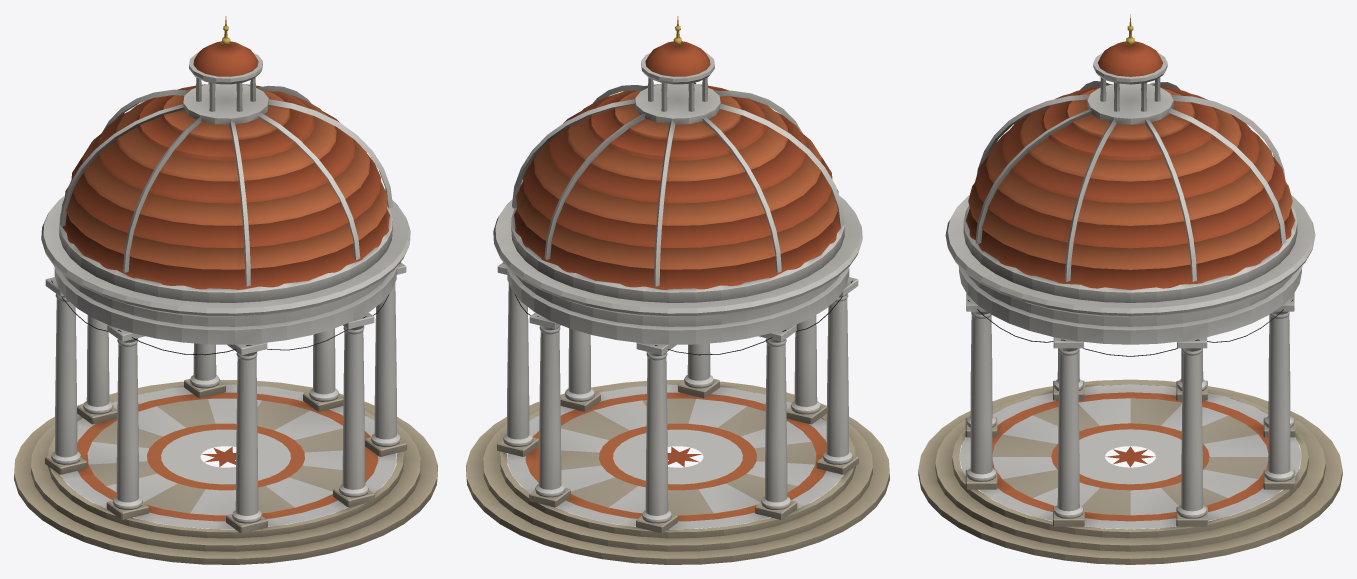
The model's file is pav_rotunda.glb.
The picture shows the model from 3 angles, left to right: view 1: azimuth 30°, elevation 25°; view 2: azimuth 150°, elevation 25°; view 3: azimuth 270°, elevation 25°; orthographic projection.
Parts seen in each view (by area): view 1: static_rotunda; view 2: static_rotunda; view 3: static_rotunda.
Boxes of the visible parts, x1=… form: static_rotunda: x1=14, y1=16, x2=437, y2=564; static_rotunda: x1=466, y1=16, x2=889, y2=564; static_rotunda: x1=918, y1=14, x2=1342, y2=564.
Size of the model in its own units: 7.5 by 9 by 7.5.
